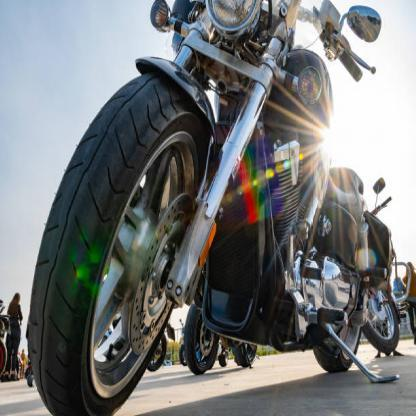Motorcycle: (29, 0, 401, 415)
